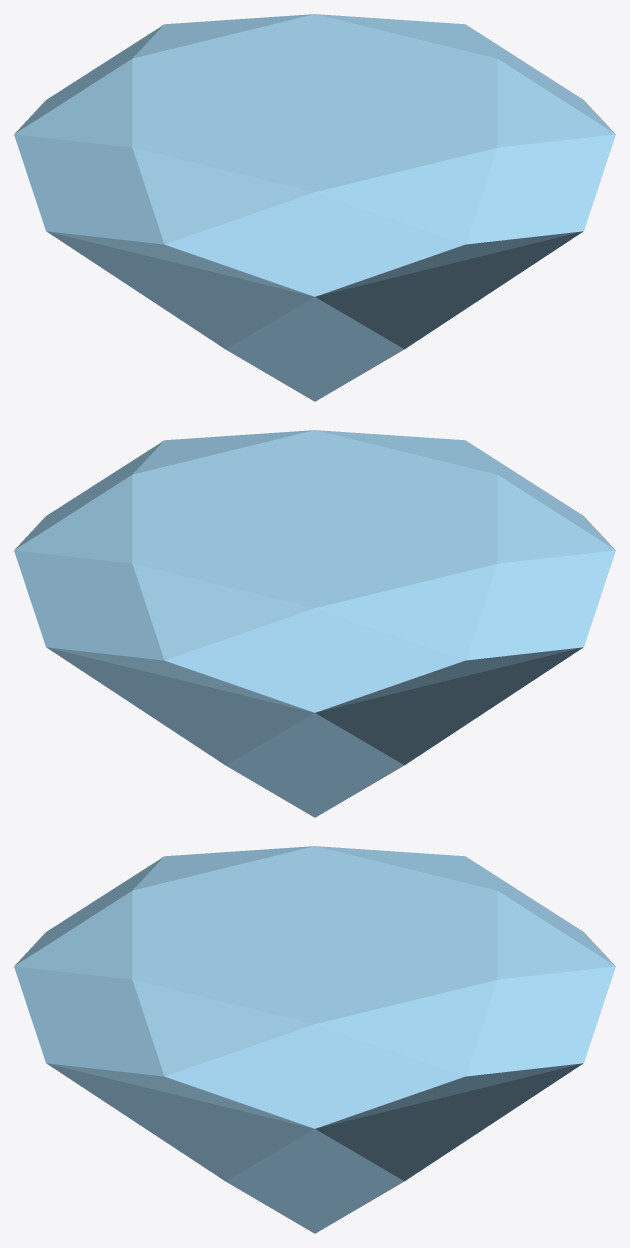
The model's file is Ice_Platform.glb.
The picture shows the model from 3 angles, top to bottom: view 1: azimuth 30°, elevation 25°; view 2: azimuth 150°, elevation 25°; view 3: azimuth 270°, elevation 25°; orthographic projection.
Visible parts, largest first — view 1: Gem.010; view 2: Gem.010; view 3: Gem.010.
Part boxes in pixels (bbox=[...]): Gem.010: bbox=[14, 14, 615, 401]; Gem.010: bbox=[14, 430, 615, 817]; Gem.010: bbox=[14, 846, 615, 1233].
Size of the model in its own units: 18.56 by 9.85 by 17.99.
